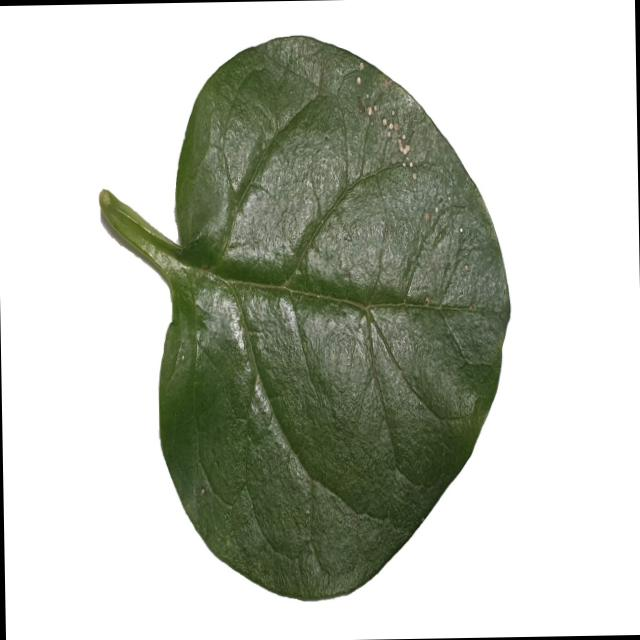Medicinal-Basale: (98, 28, 516, 608)
